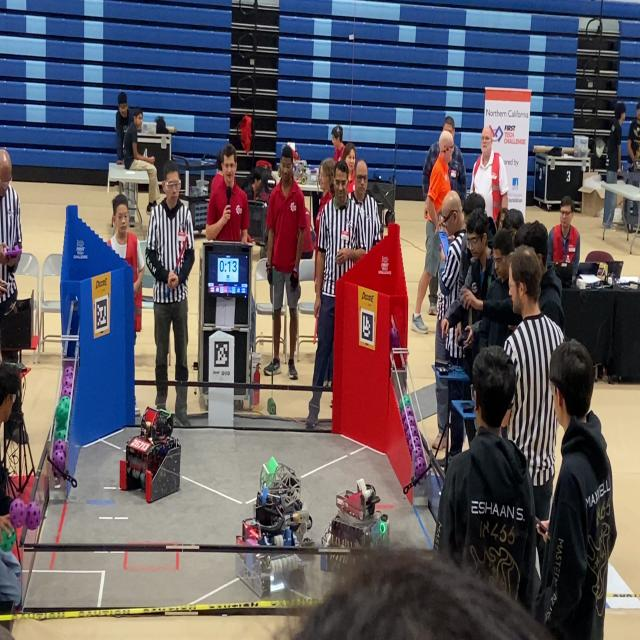artifact_green: (55, 397, 70, 428), (0, 530, 16, 552), (54, 427, 66, 440), (267, 398, 276, 415), (55, 424, 67, 434), (402, 395, 411, 407), (140, 472, 146, 490), (398, 396, 404, 411), (132, 469, 140, 479), (55, 432, 64, 439)
artifact_purple: (10, 498, 26, 528), (25, 502, 41, 530), (413, 456, 426, 477), (52, 450, 65, 471), (390, 328, 400, 349), (407, 432, 417, 451), (411, 447, 423, 462), (411, 448, 423, 463), (405, 428, 413, 449), (53, 439, 65, 452), (408, 425, 419, 439), (63, 366, 74, 379), (405, 431, 412, 451), (404, 414, 416, 425), (408, 422, 419, 434), (402, 407, 412, 419), (413, 436, 421, 451), (407, 417, 417, 428), (405, 406, 414, 418), (61, 387, 71, 397), (61, 388, 71, 397), (63, 371, 73, 380), (62, 381, 72, 390), (64, 366, 73, 375), (401, 411, 407, 424), (63, 380, 72, 388), (63, 376, 72, 384), (62, 382, 72, 389), (53, 469, 59, 480), (61, 392, 70, 399), (403, 422, 408, 433)
